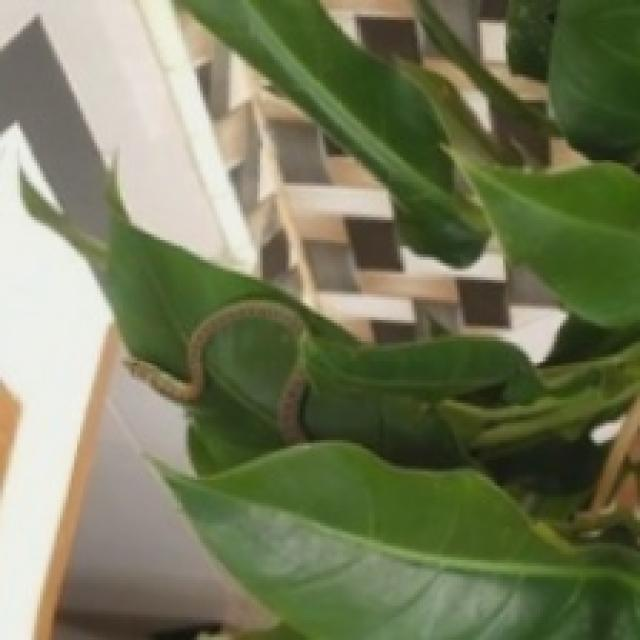paradise tree snake: (129, 297, 637, 537)
